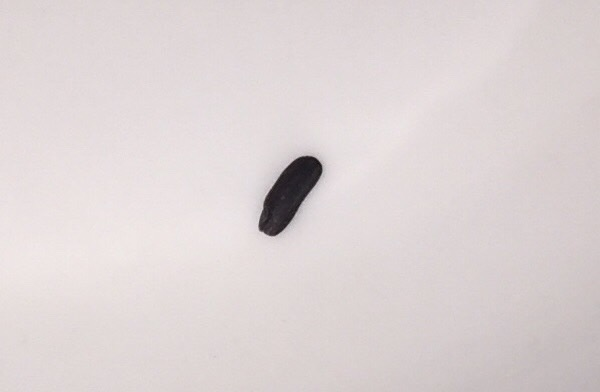Gao Nep Cam: (255, 152, 330, 239)
